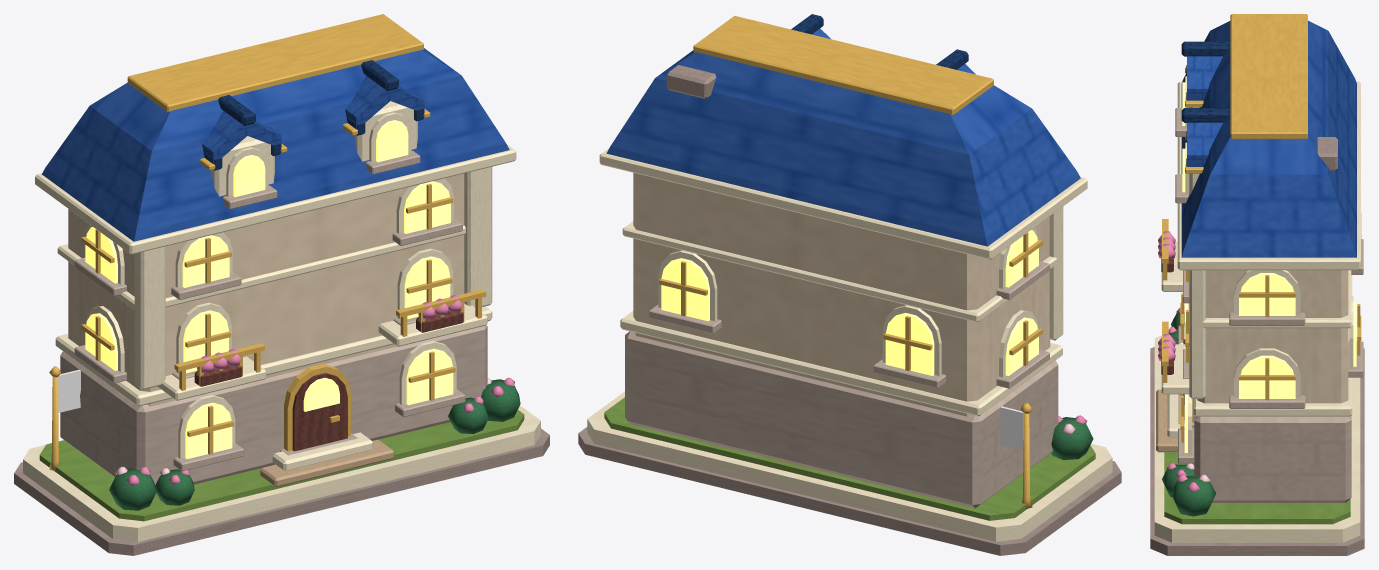
File: apartment.glb
3 views of the same model, side by side, from view 1: azimuth 30°, elevation 25°; view 2: azimuth 150°, elevation 25°; view 3: azimuth 270°, elevation 25° (orthographic). The views are drawn at different scales.
Parts seen in each view (by area): view 1: arcade-apartment; view 2: arcade-apartment; view 3: arcade-apartment.
Part boxes in pixels (x1=…): arcade-apartment: x1=14, y1=14, x2=549, y2=555; arcade-apartment: x1=578, y1=14, x2=1121, y2=555; arcade-apartment: x1=1150, y1=14, x2=1364, y2=555.
Size of the model in its own units: 1.48 by 1.28 by 0.654.
Materials: 5 (4 with a texture image).
